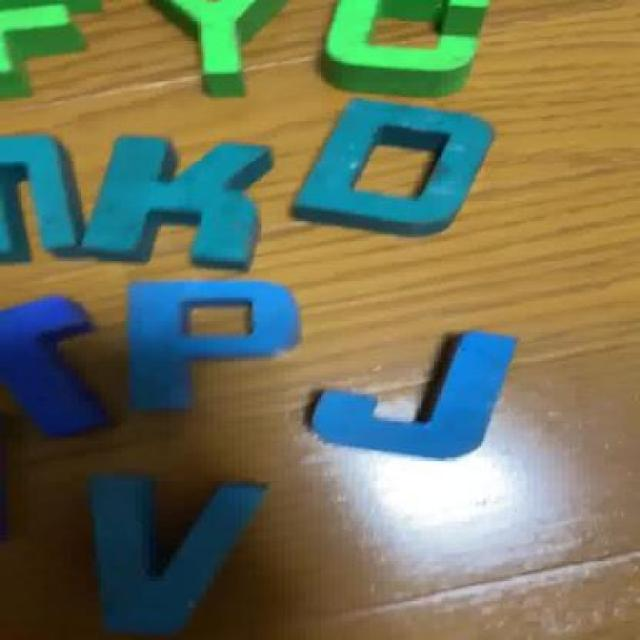D: (318, 98, 498, 238)
J: (292, 332, 534, 457)
K: (87, 138, 264, 265)
P: (121, 282, 288, 410)
V: (71, 476, 267, 636)
